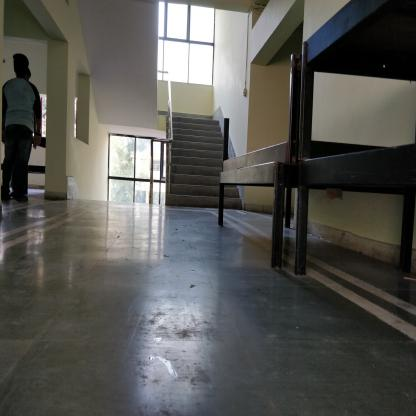stairs: (176, 119, 218, 211)
